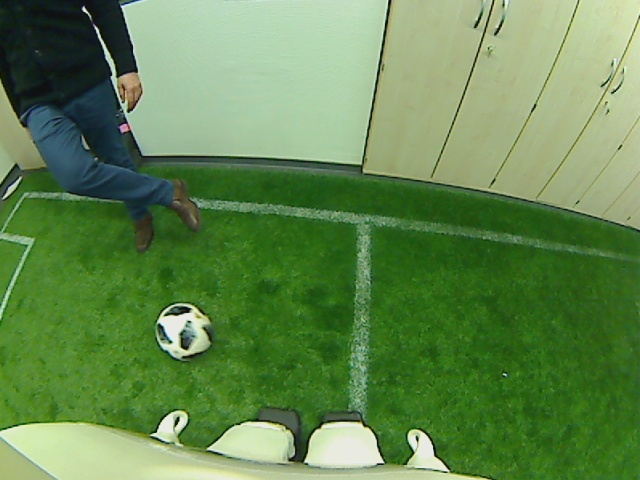ball: (154, 301, 213, 361)
